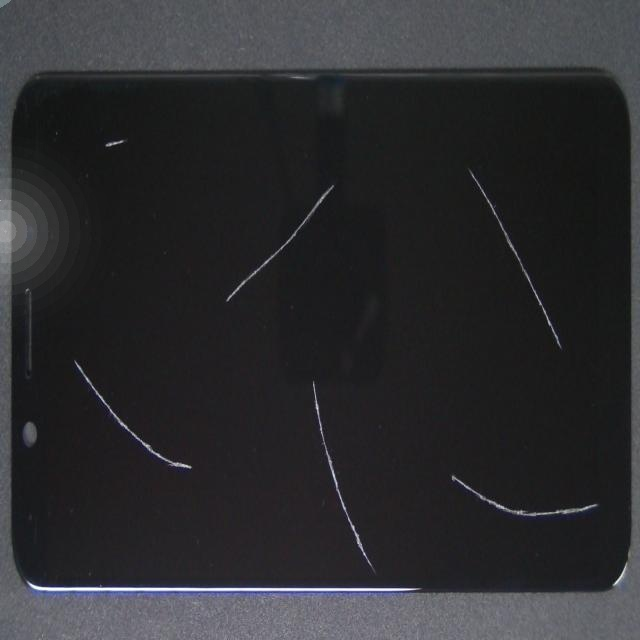scratch: (174, 171, 479, 544), (238, 6, 444, 306), (136, 259, 282, 640), (89, 56, 195, 181)
